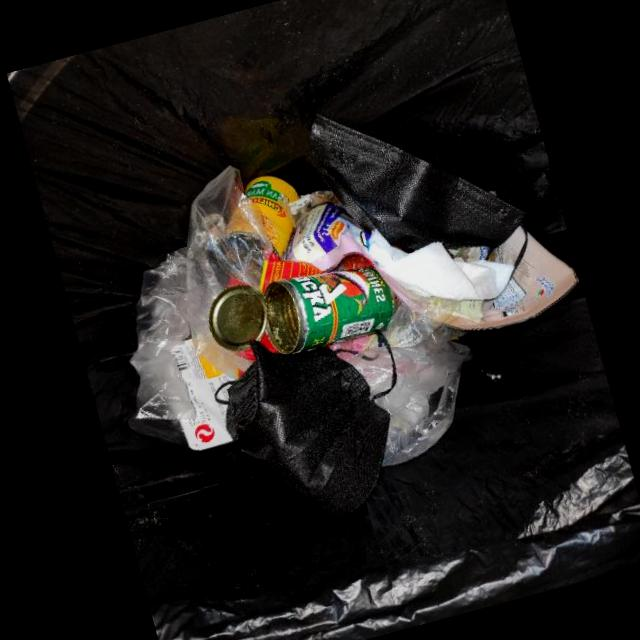bao_bi_thuc_pham: (284, 201, 579, 329), (168, 337, 234, 450)
giay: (366, 228, 515, 300)
khau_trang: (305, 113, 527, 252), (223, 342, 390, 515)
nhom: (208, 265, 398, 353)
tui_ni_long: (129, 163, 255, 419), (334, 298, 473, 465)
